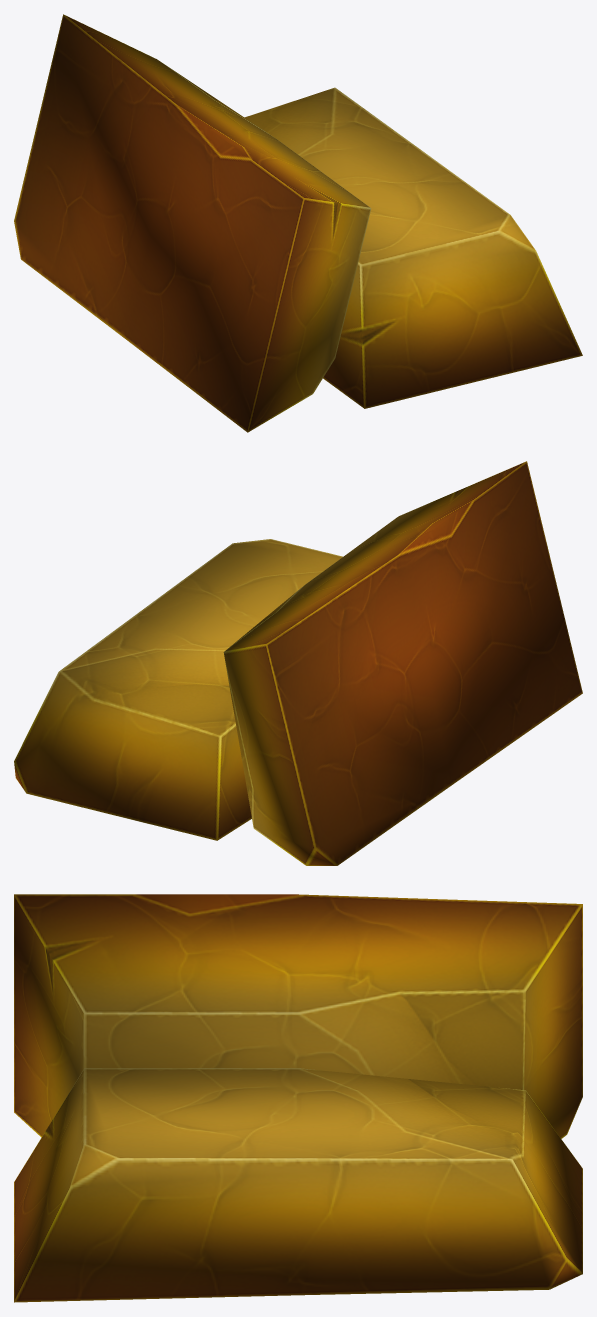
File: Gold-03.fbx
The picture shows the model from 3 angles, top to bottom: view 1: azimuth 30°, elevation 25°; view 2: azimuth 150°, elevation 25°; view 3: azimuth 270°, elevation 25°; orthographic projection. The views are drawn at different scales.
Parts seen in each view (by area): view 1: Gold-03; view 2: Gold-03; view 3: Gold-03.
Part boxes in pixels (box(x1,y1,x2,y2)): Gold-03: box(14, 14, 582, 432); Gold-03: box(14, 461, 582, 865); Gold-03: box(14, 894, 582, 1302).
Bounding box in the file's own units: 0.1152 × 0.074 × 0.15.
Materials: 1 (1 with a texture image).
